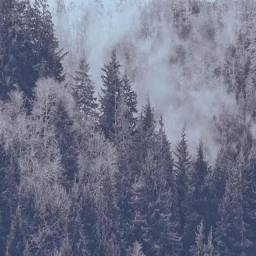Low smoke: (3, 0, 255, 181)
